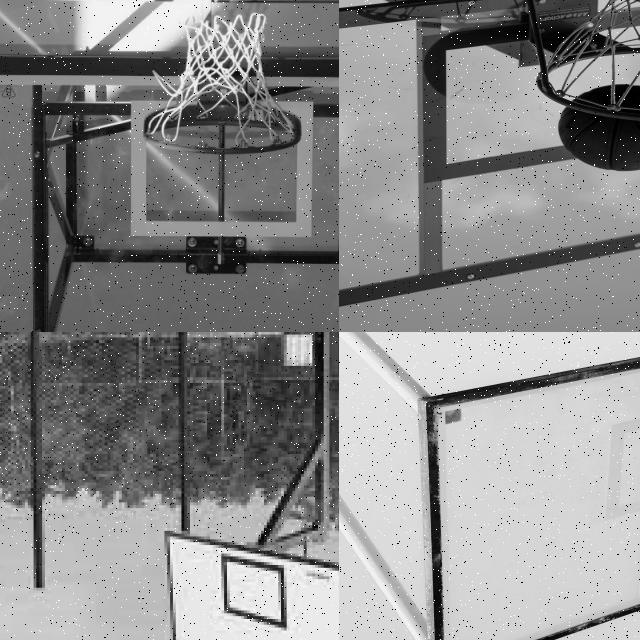backboard: (0, 51, 339, 332), (434, 366, 640, 640), (164, 531, 339, 640)
